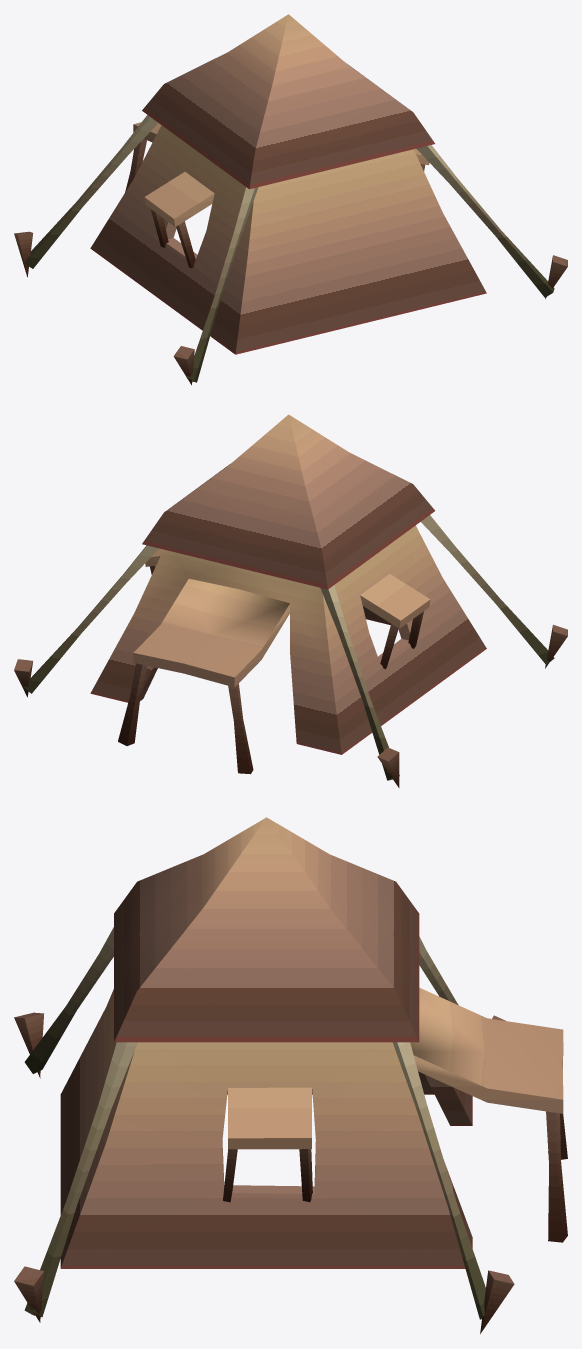
The model's file is simple_low_poly_house_lvl2.glb.
The picture shows the model from 3 angles, top to bottom: view 1: azimuth 30°, elevation 25°; view 2: azimuth 150°, elevation 25°; view 3: azimuth 270°, elevation 25°; orthographic projection. The views are drawn at different scales.
Visible parts, largest first — view 1: house_lvl2_houses_0; view 2: house_lvl2_houses_0; view 3: house_lvl2_houses_0.
Part boxes in pixels (x1,y1,x2,y2): house_lvl2_houses_0: (14,14,567,385); house_lvl2_houses_0: (14,414,567,787); house_lvl2_houses_0: (14,817,567,1334).
Bounding box in the file's own units: 4.56 × 3.03 × 3.91.
1 material, 1 textured.
